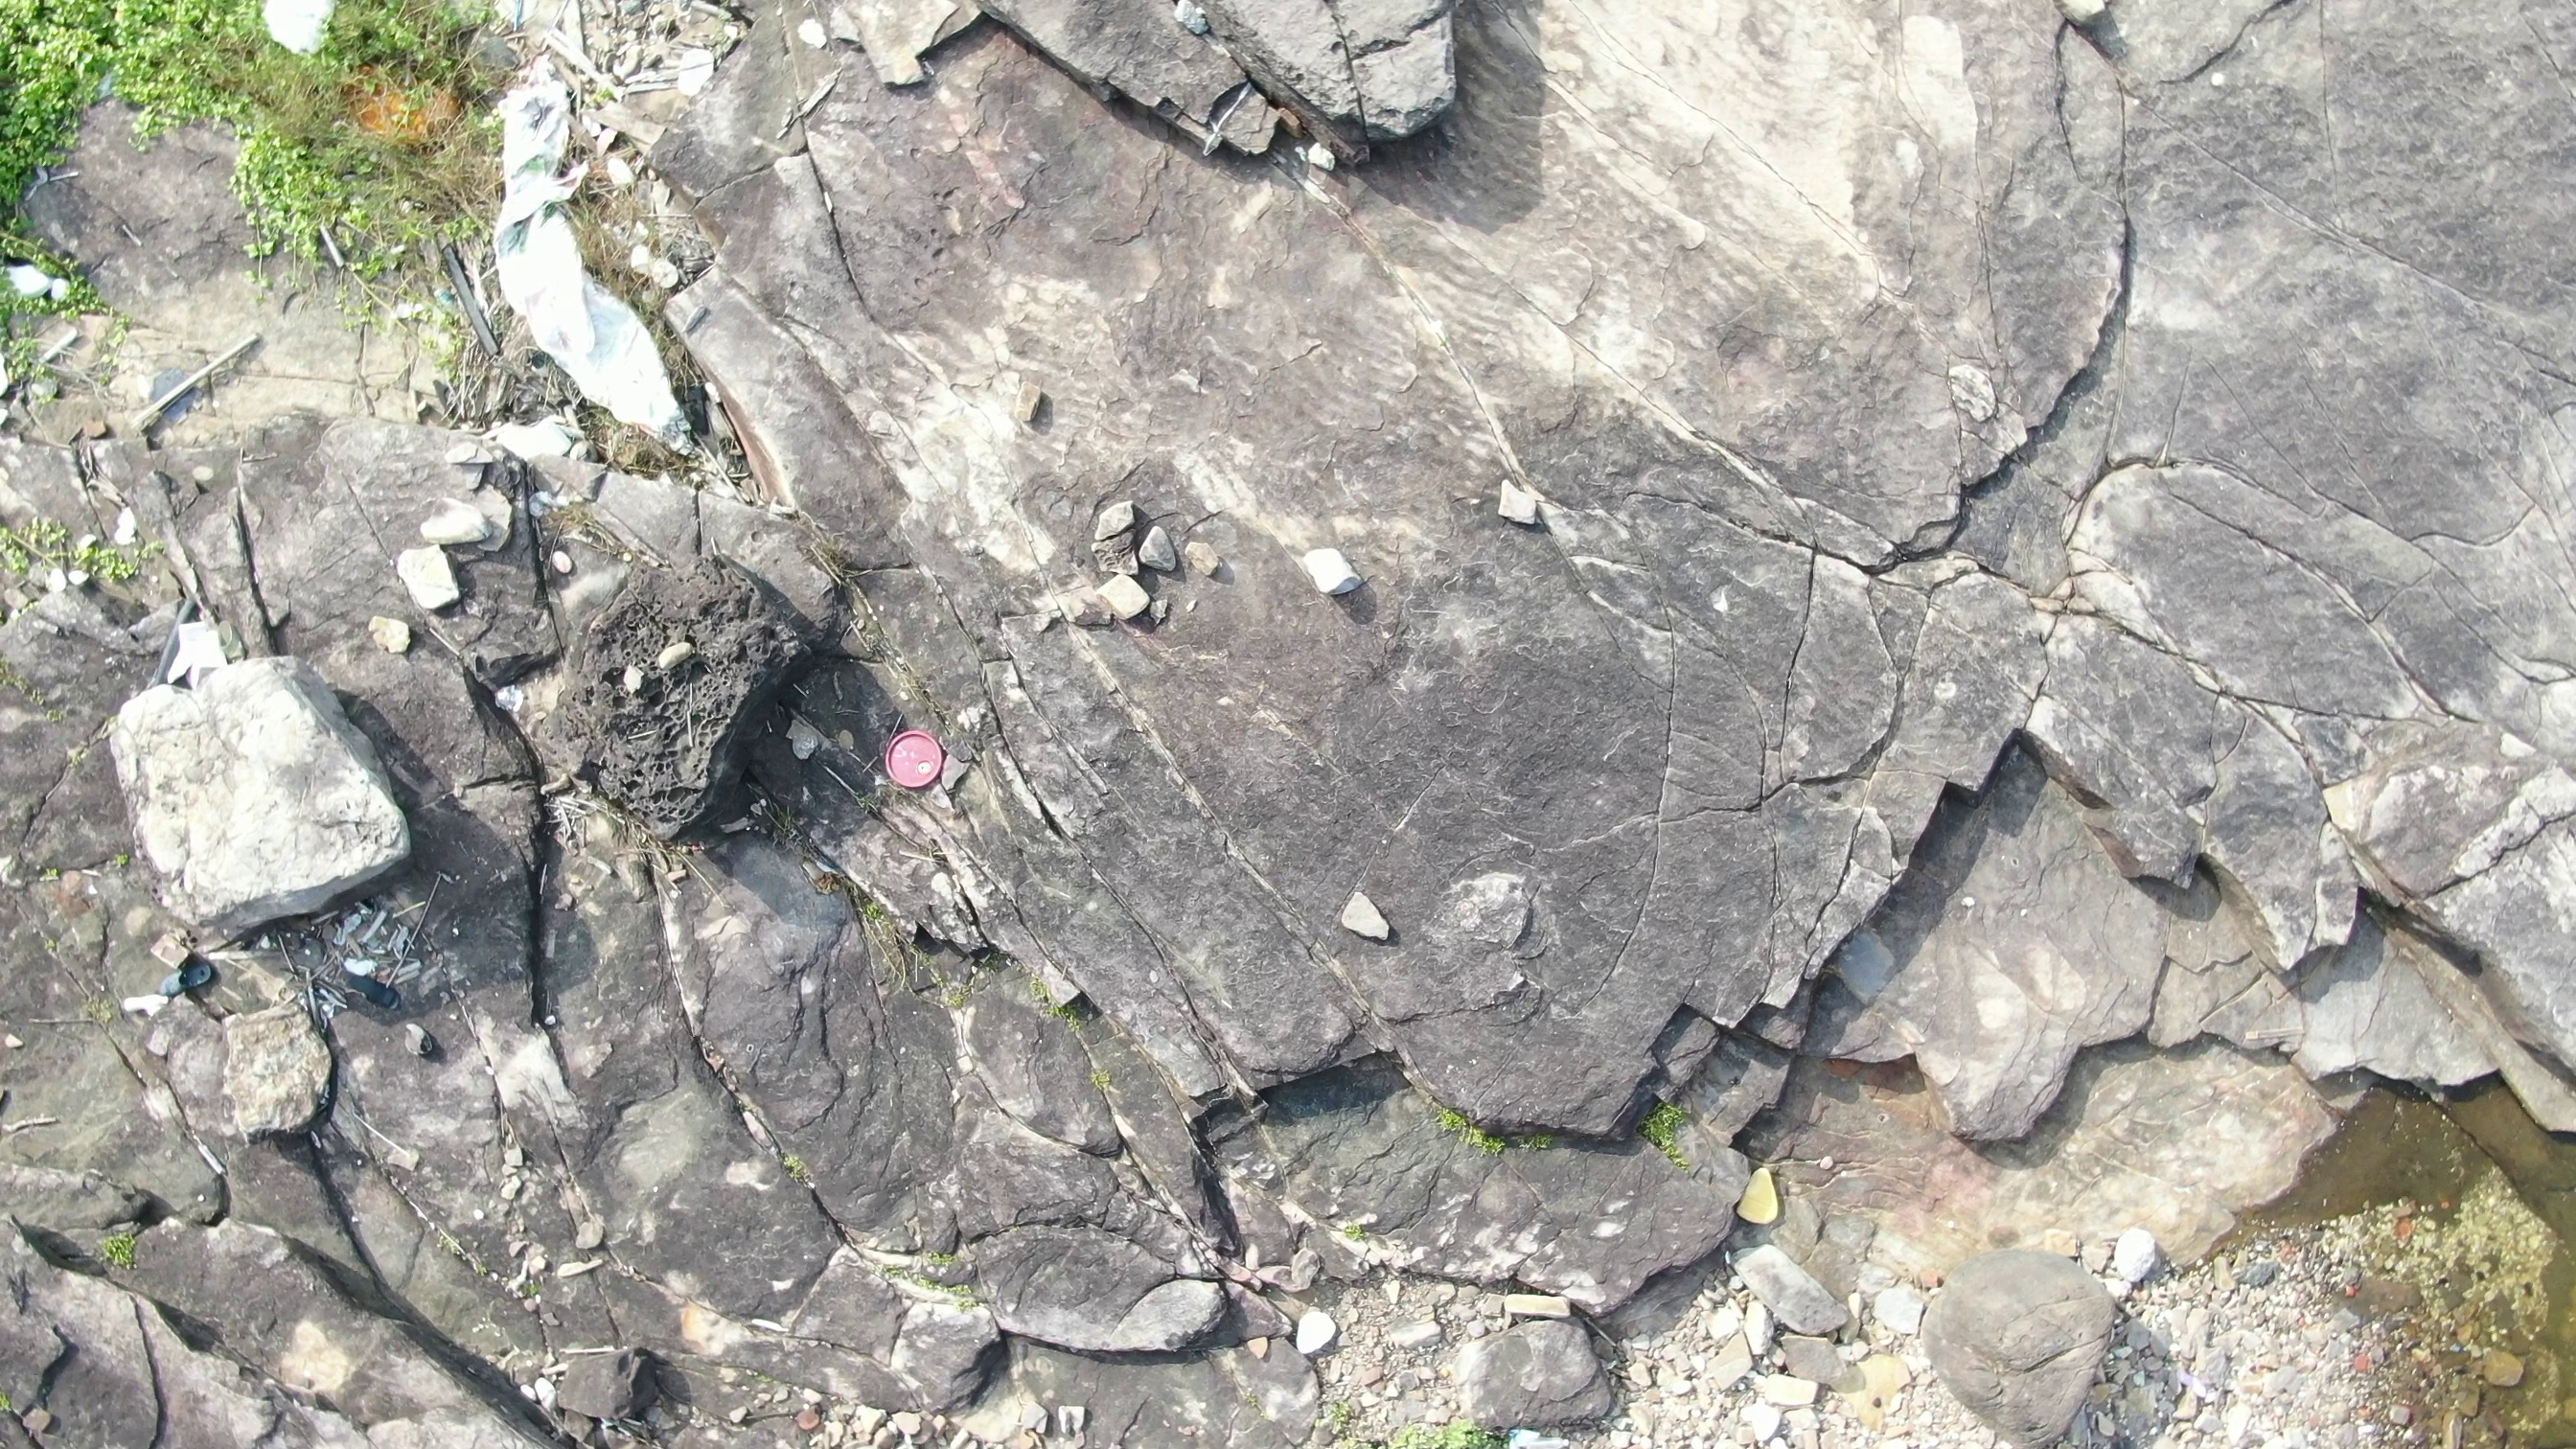garbage: (471, 48, 699, 456), (879, 729, 950, 798), (1729, 1157, 1789, 1233), (157, 950, 218, 1003)
